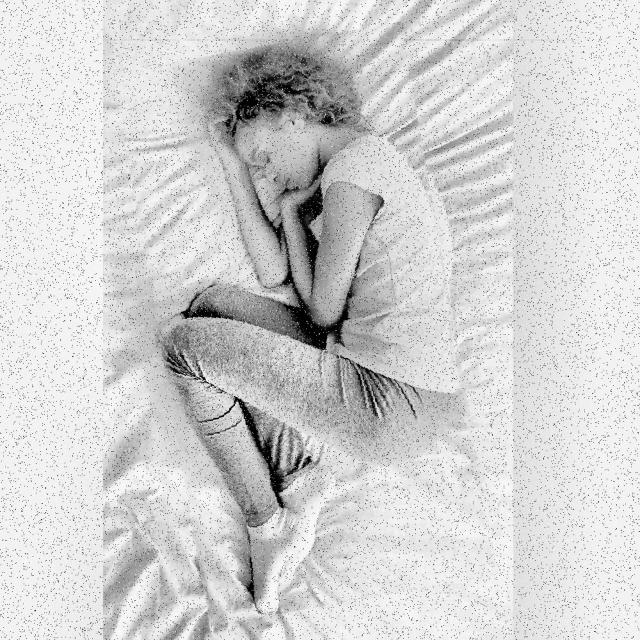Not_Supine: (162, 45, 458, 616)
